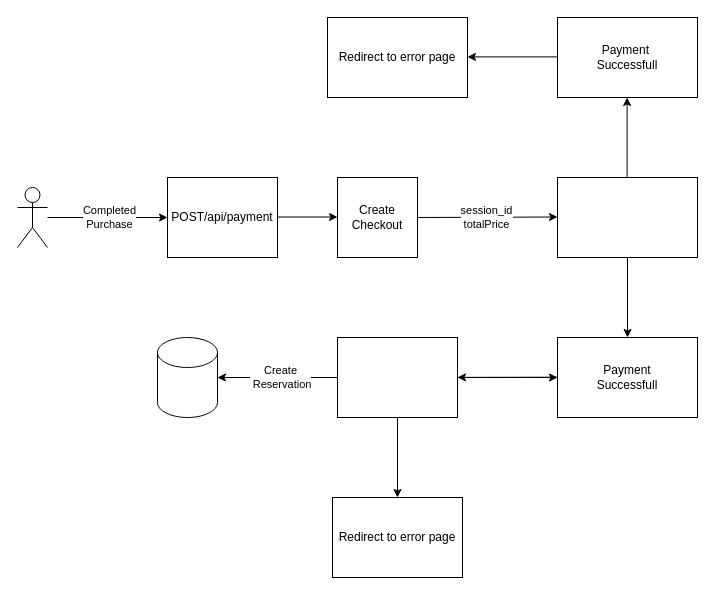
Image size: 715x595. Some labels were removed from this diagram. The shapes that lost their labels are listed below. From the top down, each one's box as (x1, y1, x2, y2) in pixels, then its label:
(16, 186, 48, 248): Actor
(556, 176, 698, 258): Redirect to Checkout
(336, 336, 458, 418): POST/api/payment/ success
